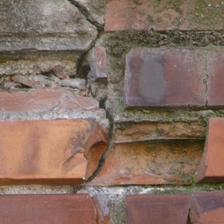Crack: (3, 0, 78, 92), (35, 11, 73, 108)
